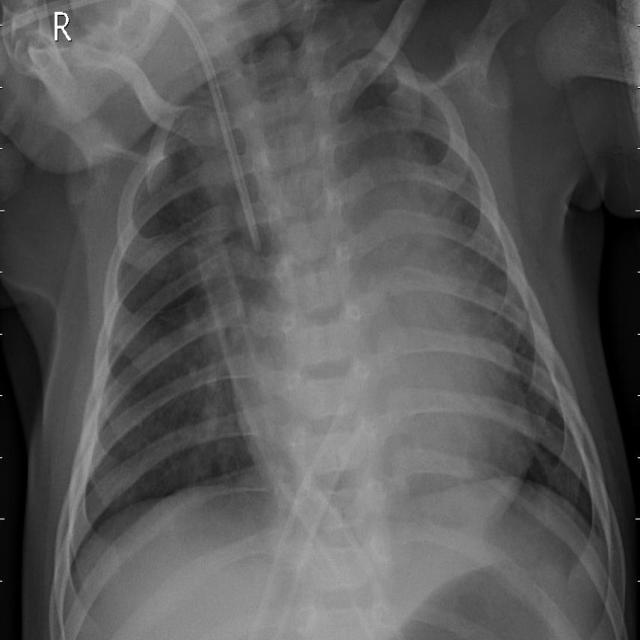bacterial_pneumonia: (3, 0, 640, 640)
